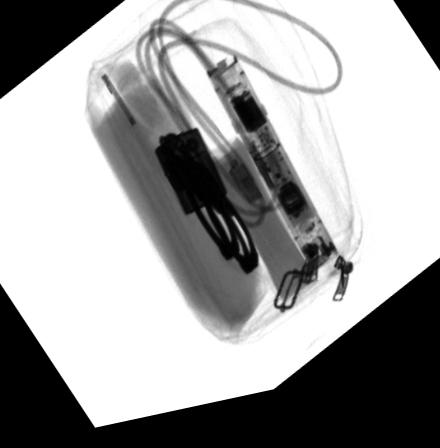Baton: (204, 64, 339, 289)
HandCuffs: (157, 133, 260, 287)
Lighter: (153, 133, 228, 222)
